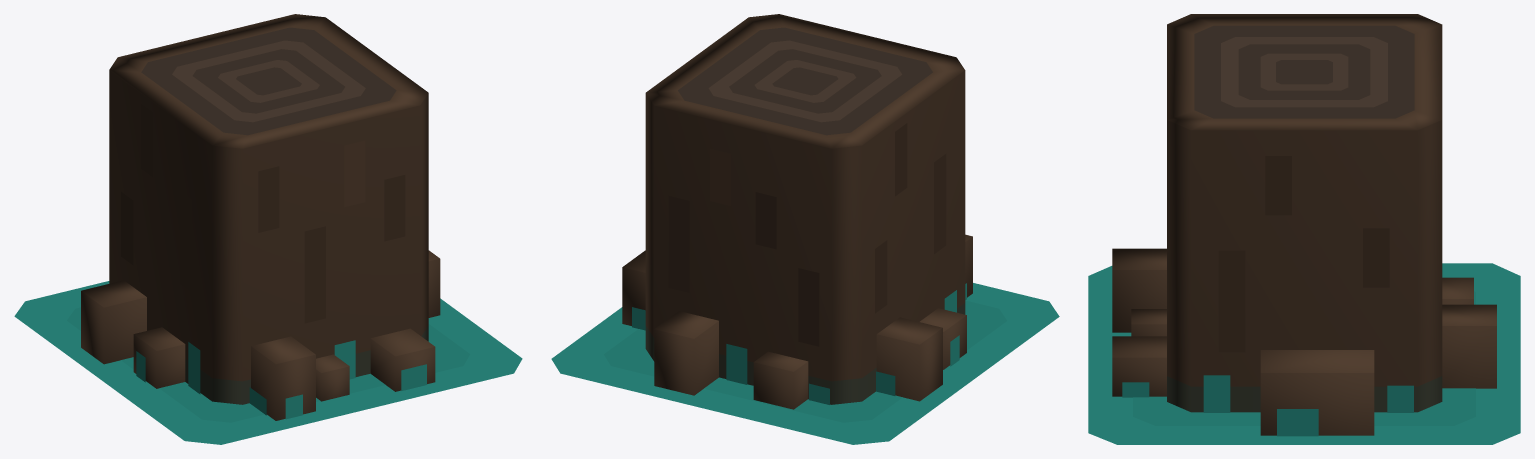
The model's file is B_forest1_rock01.fbx.
3 views of the same model, side by side, from view 1: azimuth 30°, elevation 25°; view 2: azimuth 150°, elevation 25°; view 3: azimuth 270°, elevation 25° (orthographic). The views are drawn at different scales.
Visible parts, largest first — view 1: model 1, model; view 2: model 1, model; view 3: model 1, model.
Boxes of the visible parts, x1,y1,x2,y2 form: model 1: (14,14,522,444); model: (67,307,470,422); model 1: (551,14,1059,444); model: (604,300,1006,422); model 1: (1088,14,1520,444); model: (1133,291,1475,425).
Size of the model in its own units: 3.11 by 2.27 by 3.12.
